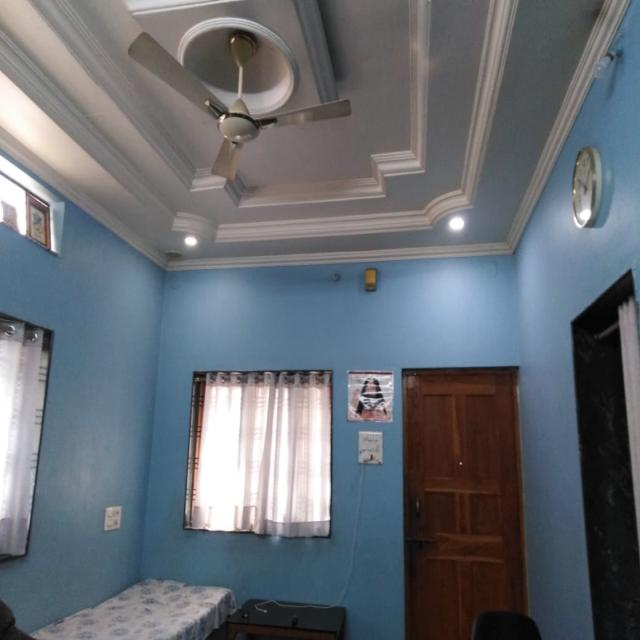Non_Damaged: (5, 0, 640, 637)
